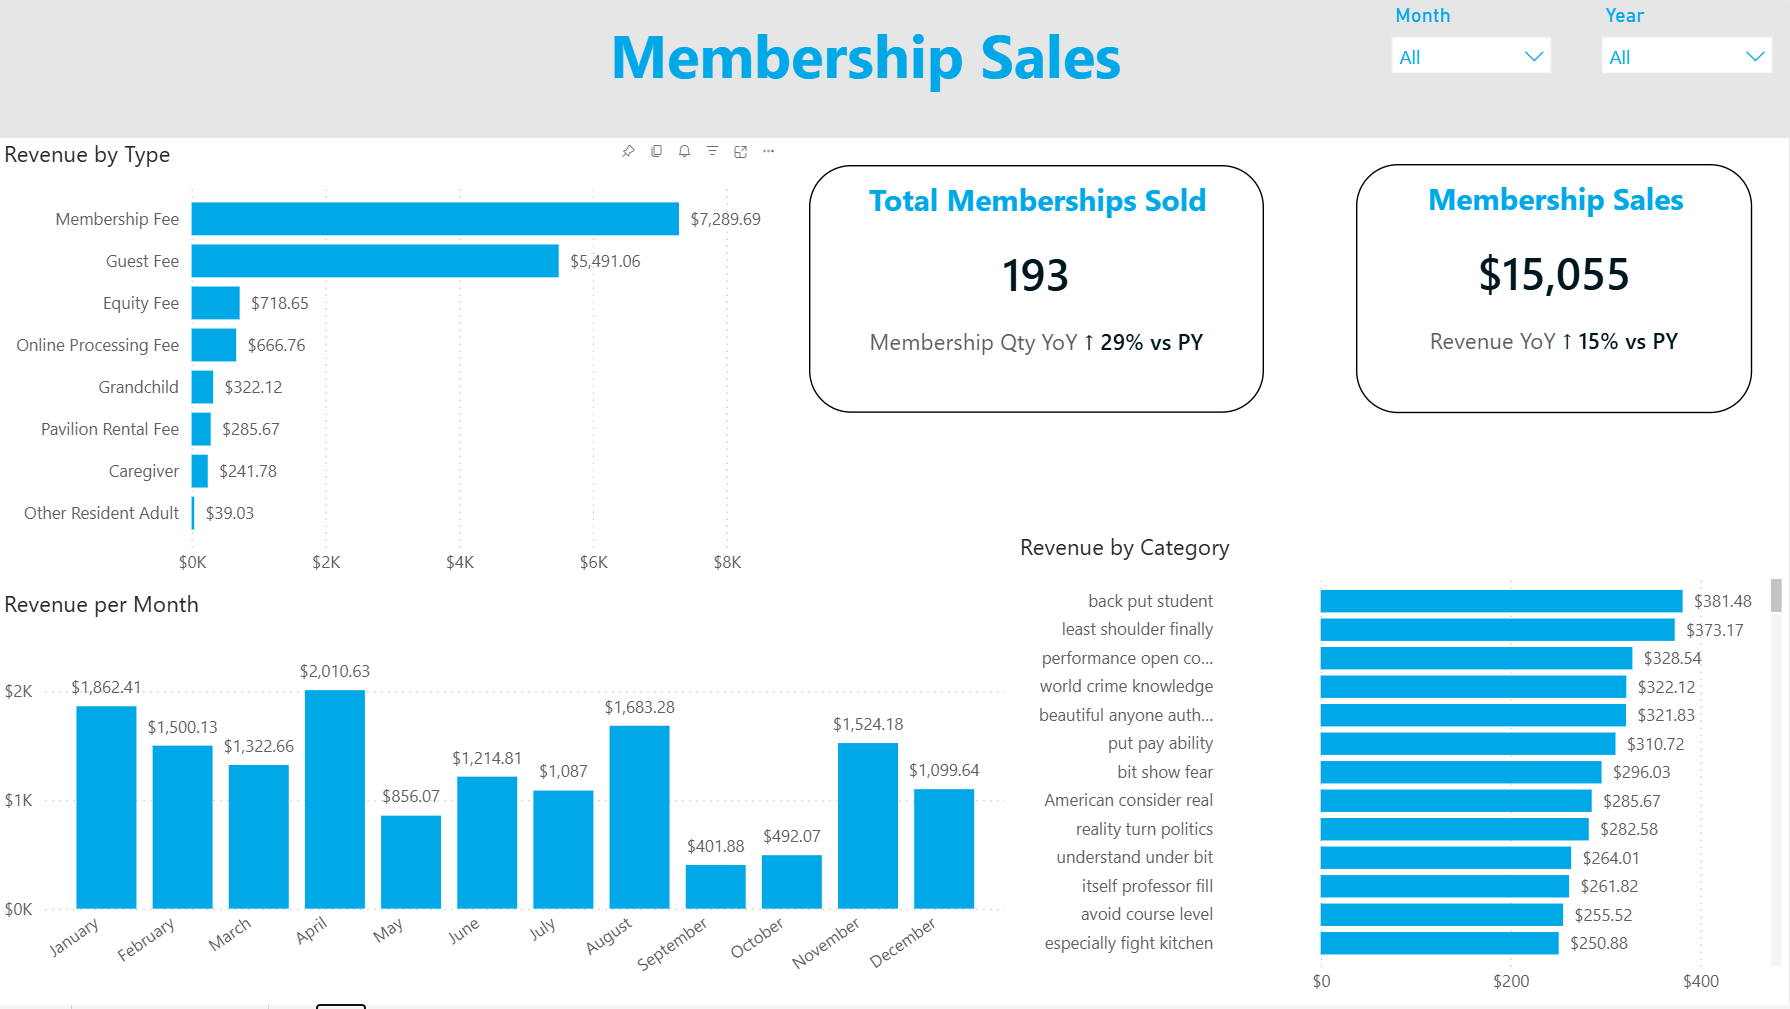

This screenshot's page, from the dashboard's own definition file:
{"tool":"powerbi","page":{"name":"Membership Sales","canvas":[1280,720],"ordinal":3},"visuals":[{"type":"shape","box":[0,0,1280,100.7],"z":0},{"type":"textbox","box":[255.8,7,729.4,75.9],"z":1000},{"type":"slicer","fields":{"Values":["public date_table.year"]},"box":[1135.7,0,142.9,102.9],"z":2000},{"type":"slicer","fields":{"Values":["public date_table.month_name"]},"box":[985.7,0,134.9,102.9],"z":3000},{"type":"cardVisual","title":"Membership Sales","fields":{"Data":["_Measures.Membership Sales Display"]},"box":[970.7,119.4,283.3,177.6],"z":7000},{"type":"cardVisual","title":"Total Memberships Sold","fields":{"Data":["_Measures.Total Quantity"]},"box":[580.1,119.8,325.1,177.2],"z":8000},{"type":"columnChart","title":"Revenue per Month","fields":{"Category":["public date_table.date.Variation.Date Hierarchy.Month"],"Y":["Sum(public membership_sales.total)"]},"box":[0,422,725.4,297.1],"z":9000},{"type":"barChart","title":"Revenue by Category","fields":{"Category":["public membership_sales.title"],"Y":["Sum(public membership_sales.total)"]},"box":[725.7,381.2,554.3,339.9],"z":10000},{"type":"barChart","title":"Revenue by Type","fields":{"Category":["public membership_sales.category"],"Y":["Sum(public membership_sales.total)"]},"box":[0,100.7,561,321.3],"z":11000}]}

Visuals, with their boxes in screenshot pixels (x1, y1, x2, y2), scaled from the page's 1280x720 canvas onto the 1790x1009 screenshot:
shape: (0,0,1789,141)
textbox: (358,10,1378,116)
slicer - public date_table.year: (1588,0,1788,144)
slicer - public date_table.month_name: (1378,0,1567,144)
"Membership Sales" cardVisual: (1357,167,1754,416)
"Total Memberships Sold" cardVisual: (811,168,1266,416)
"Revenue per Month" columnChart: (0,591,1014,1008)
"Revenue by Category" barChart: (1015,534,1789,1008)
"Revenue by Type" barChart: (0,141,785,591)
